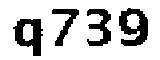3: (85, 4, 116, 52)
7: (46, 5, 80, 49)
9: (118, 5, 151, 52)
q: (11, 15, 45, 60)
